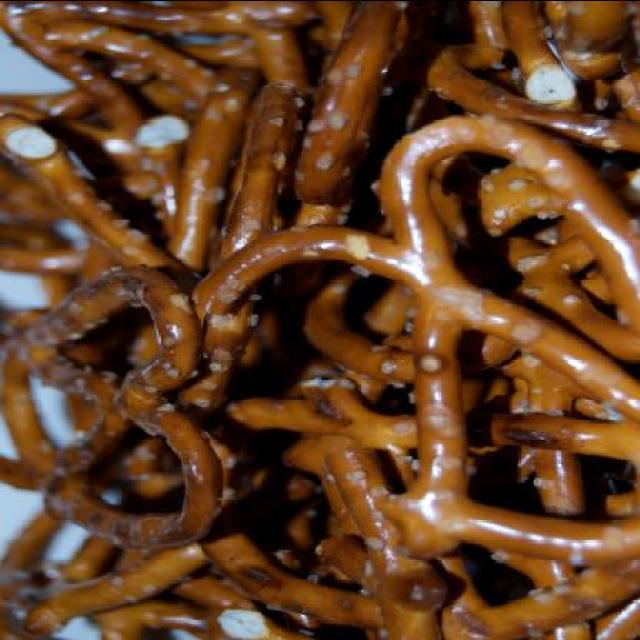Salatini packaged: (1, 1, 639, 639)
